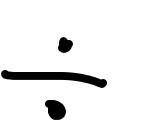div: (1, 37, 107, 120)
